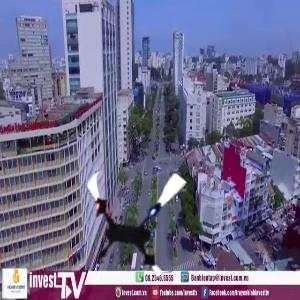drone: (73, 153, 204, 284)
